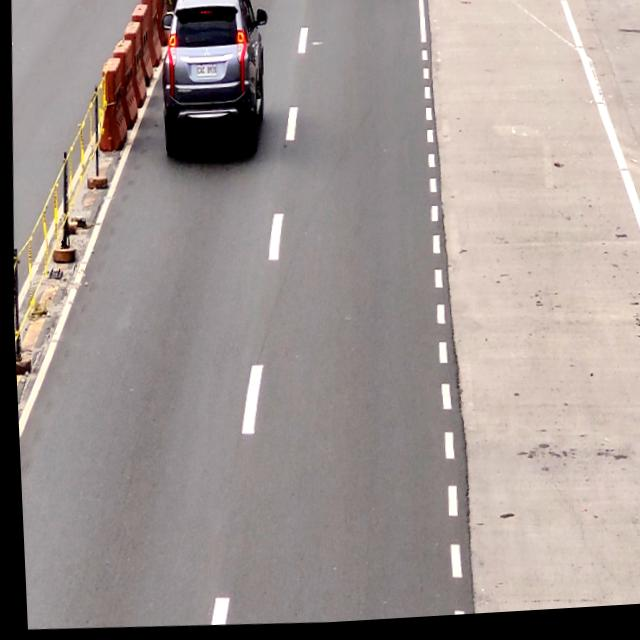Car: (157, 0, 267, 155)
License-Plate: (195, 66, 216, 79)
